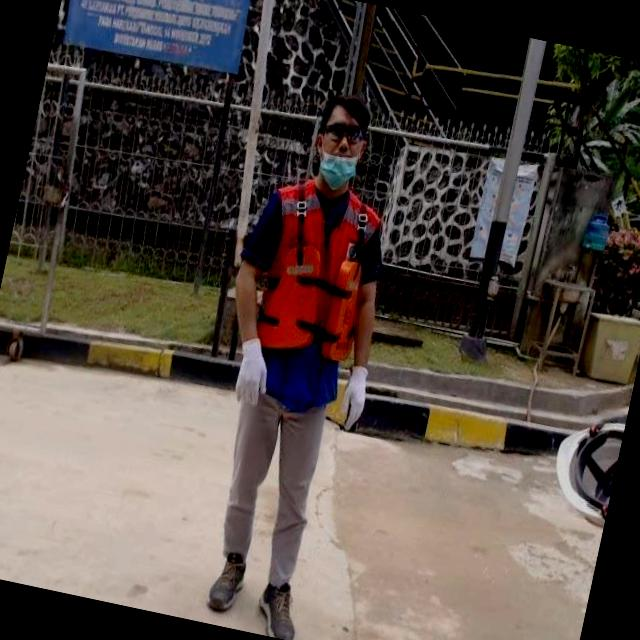vest: (230, 171, 390, 412)
